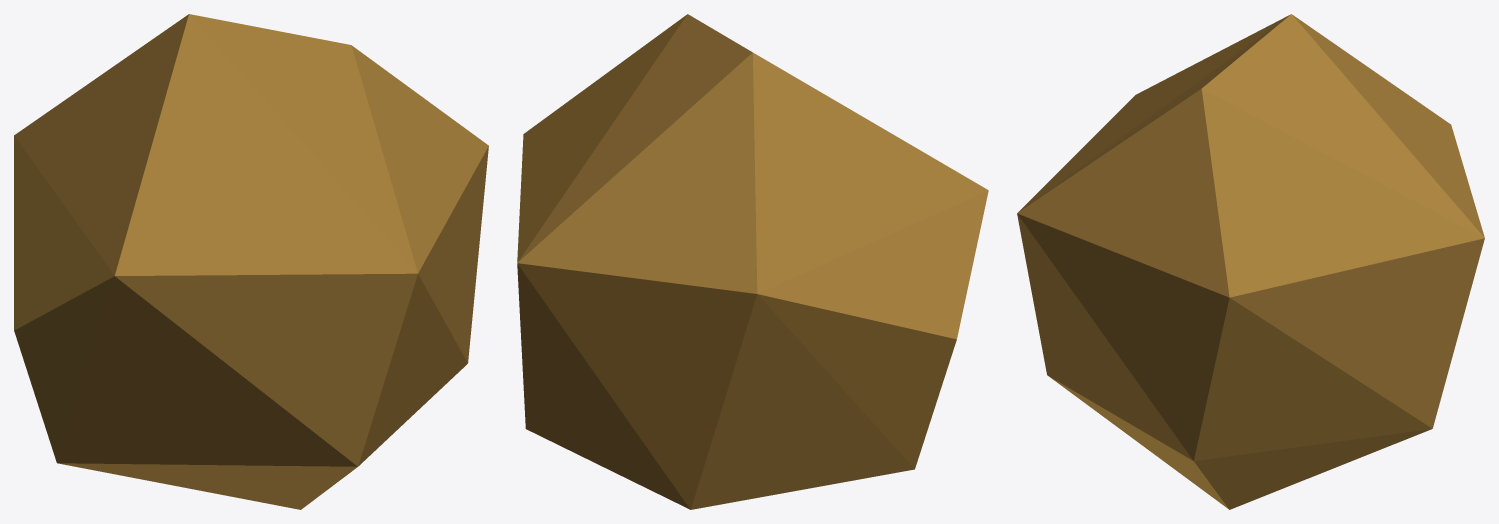
The model's file is brownrock.fbx.
The picture shows the model from 3 angles, left to right: view 1: azimuth 30°, elevation 25°; view 2: azimuth 150°, elevation 25°; view 3: azimuth 270°, elevation 25°; orthographic projection. The views are drawn at different scales.
Parts seen in each view (by area): view 1: Icosphere; view 2: Icosphere; view 3: Icosphere.
Part boxes in pixels (x1,y1,x2,y2): Icosphere: (14, 14, 488, 509); Icosphere: (517, 14, 988, 509); Icosphere: (1017, 14, 1484, 509).
Bounding box in the file's own units: 207 × 212 × 196.
